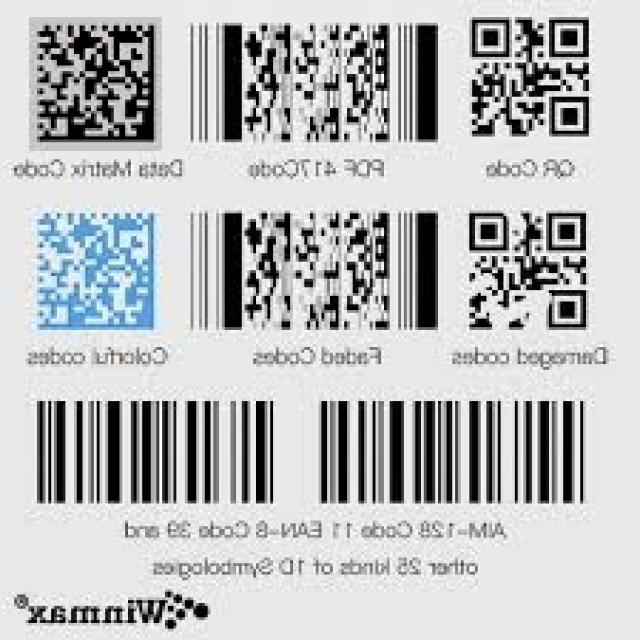DataMatrix: (29, 17, 162, 151)
